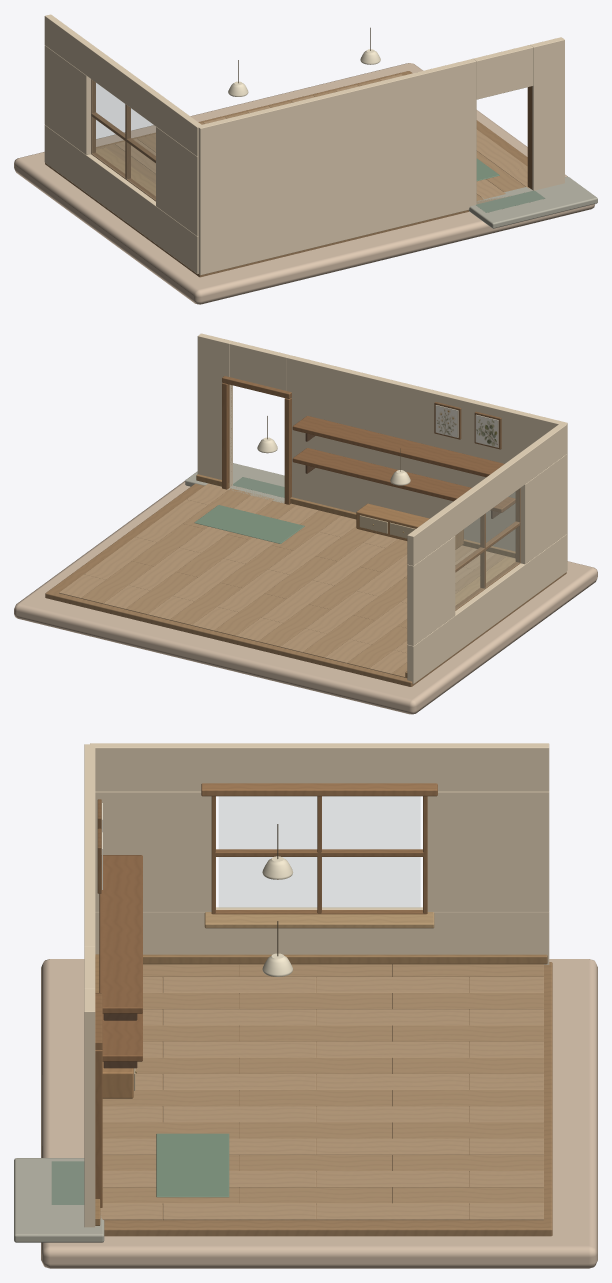
The model's file is room.glb.
3 views of the same model, one above another, from view 1: azimuth 30°, elevation 25°; view 2: azimuth 150°, elevation 25°; view 3: azimuth 270°, elevation 25° (orthographic). The views are drawn at different scales.
Parts seen in each view (by area): view 1: room; view 2: room; view 3: room.
Part boxes in pixels (bbox=[...]): room: bbox=[14, 14, 597, 304]; room: bbox=[14, 333, 597, 714]; room: bbox=[14, 743, 597, 1268].
Size of the model in its own units: 10 by 3.92 by 8.39.
Materials: 25 (14 with a texture image).
